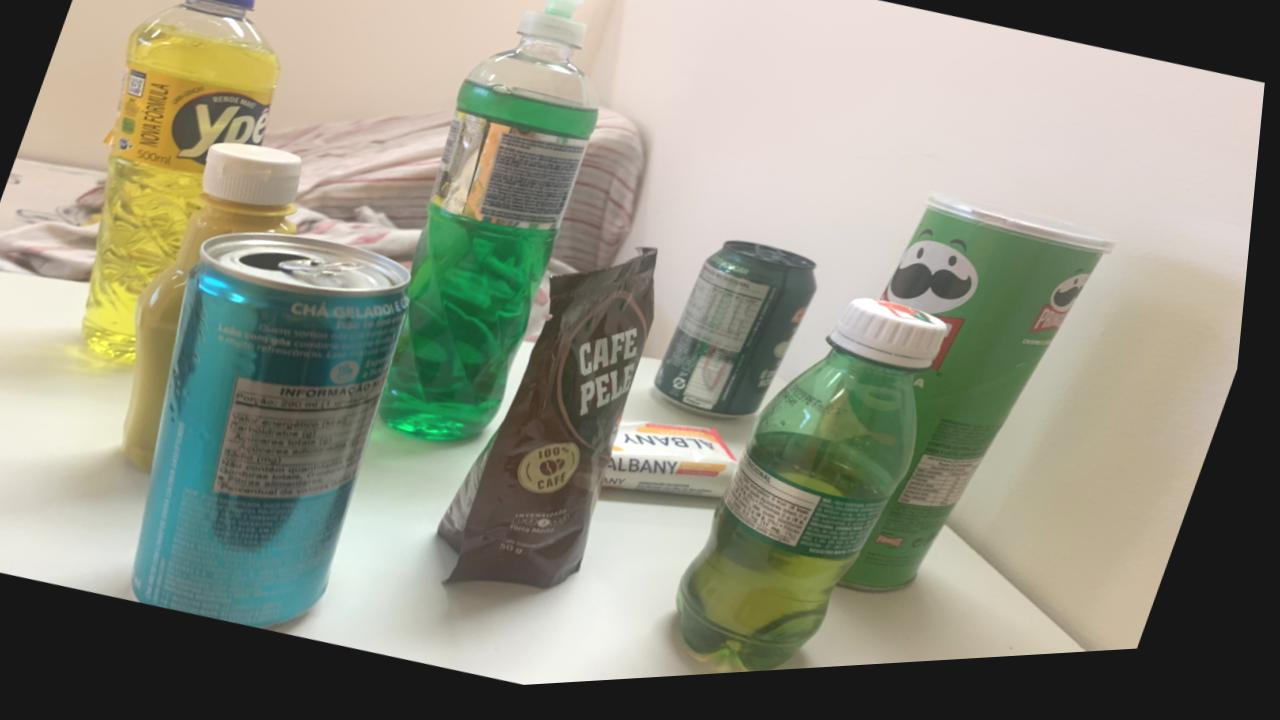Coffee-Pantry_Items: (449, 257, 663, 596)
Detergent-Cleanup_Items: (387, 0, 601, 448), (88, 0, 282, 364)
Guarana-Drinks: (689, 311, 955, 682)
Guarana_Can-Drinks: (663, 250, 823, 427)
Mustard-Pantry_Items: (131, 146, 306, 474)
Pringles-Snacks: (855, 204, 1122, 603)
Soap-Cleanup_Items: (612, 430, 748, 507)
Tea-Drinks: (144, 235, 416, 631)
